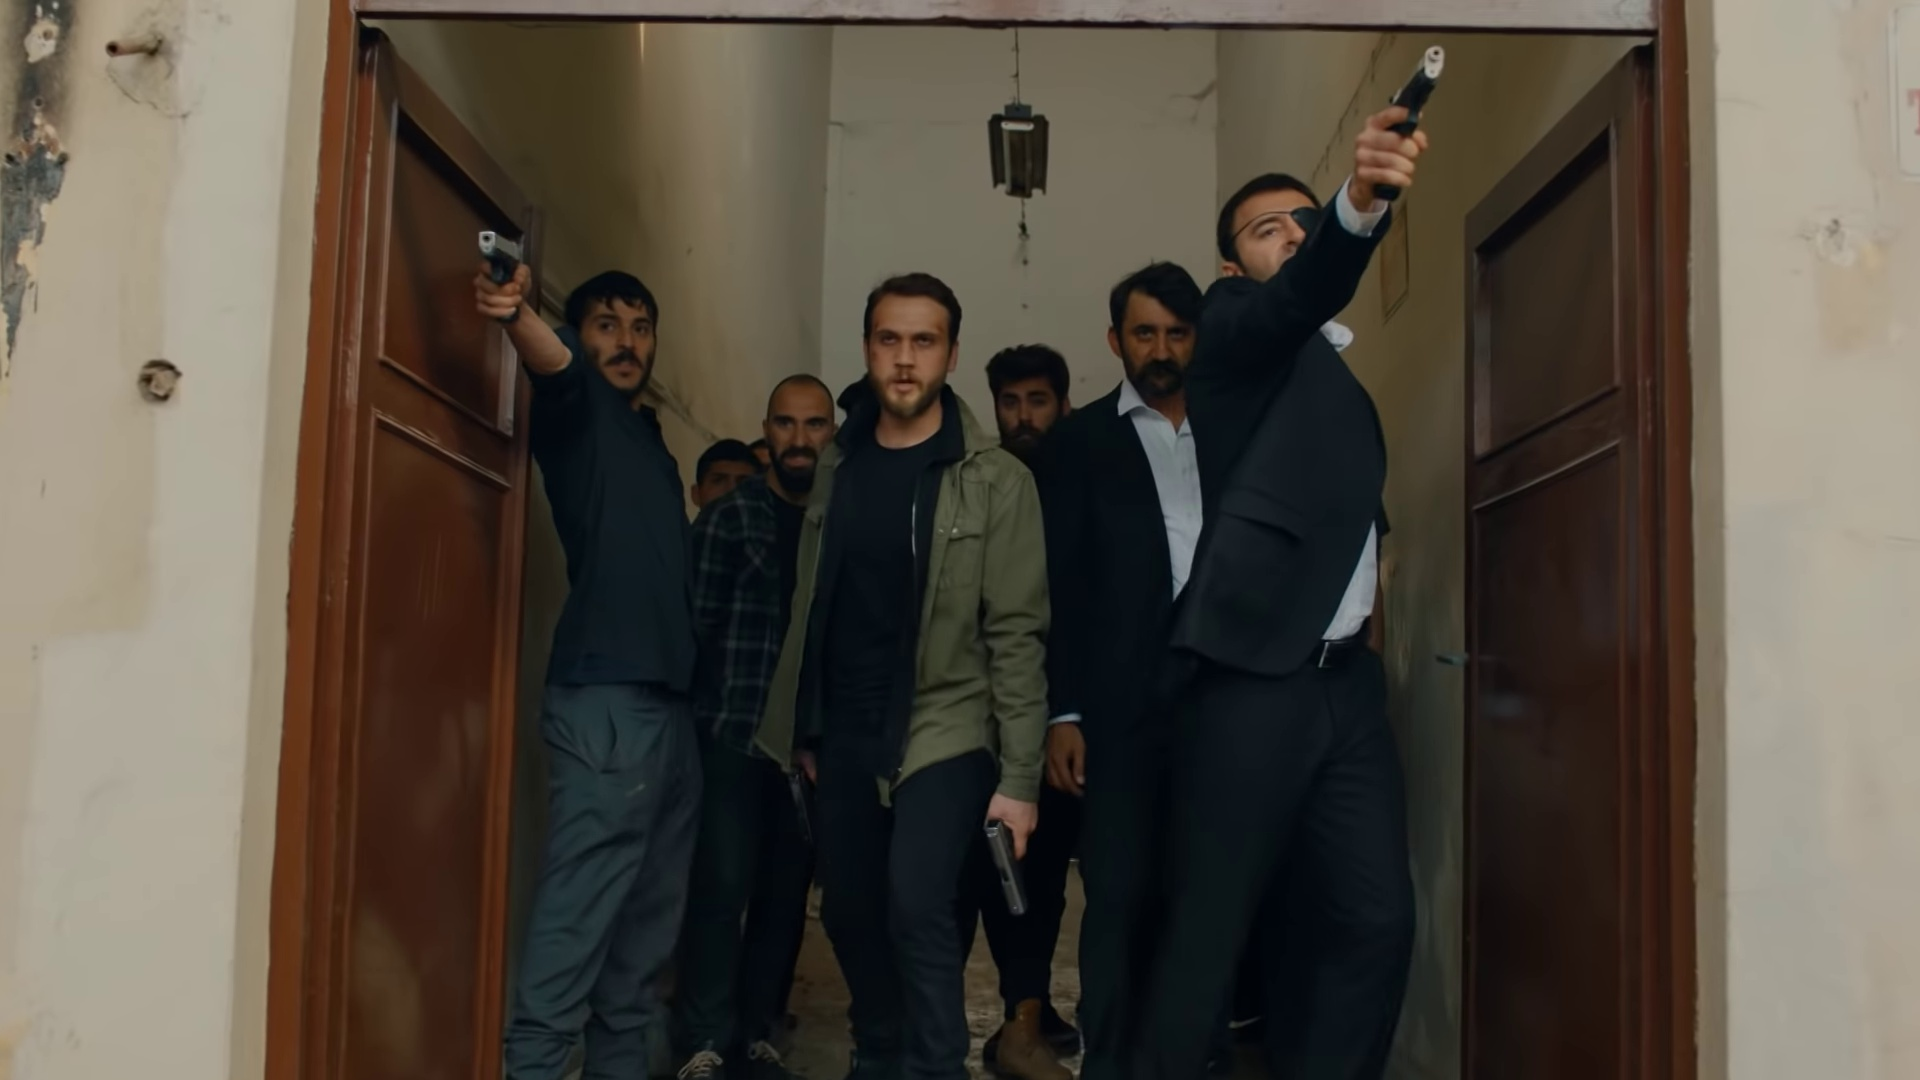gun: (1353, 41, 1469, 196), (473, 229, 530, 323), (985, 815, 1029, 928), (783, 756, 822, 851)
p_w_gun: (1137, 33, 1478, 1080), (738, 268, 1055, 1080), (465, 214, 711, 1080)
p_wo_gun_not_carrying_normal_pose: (1046, 255, 1226, 1080), (683, 369, 868, 1080), (988, 336, 1077, 458)
